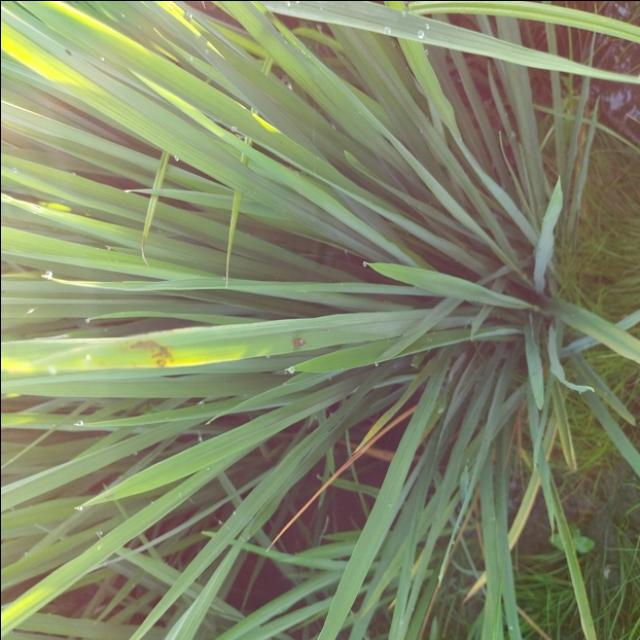healthy: (286, 328, 308, 354)
